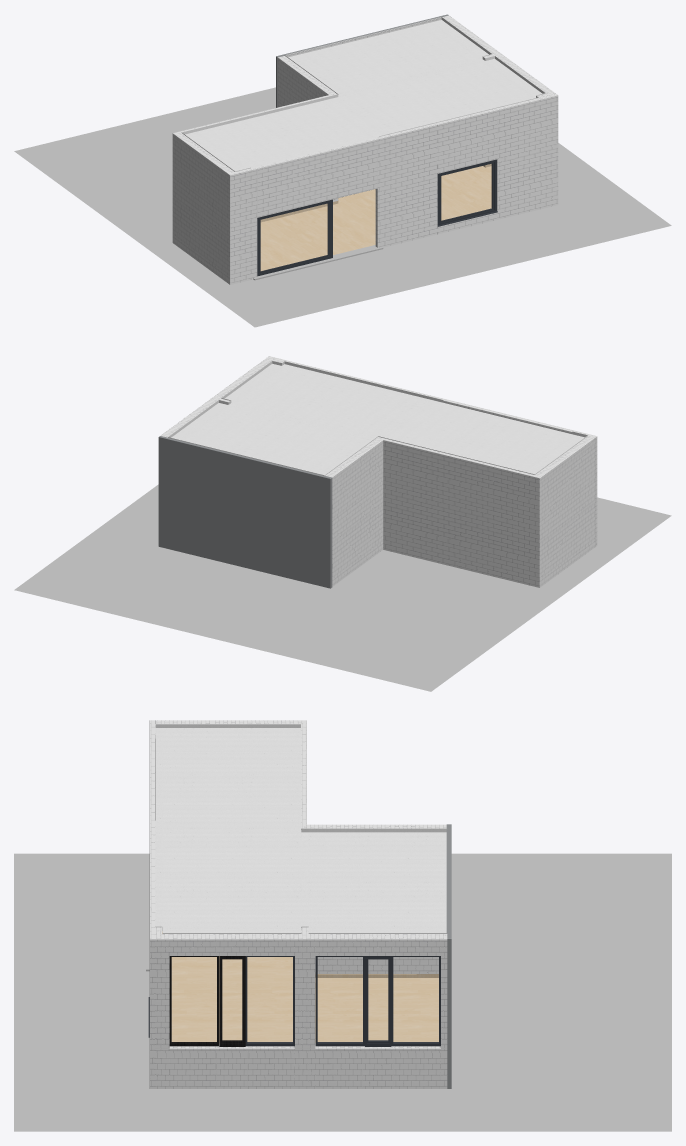
The model's file is room.obj.
The picture shows the model from 3 angles, top to bottom: view 1: azimuth 30°, elevation 25°; view 2: azimuth 150°, elevation 25°; view 3: azimuth 270°, elevation 25°; orthographic projection. The views are drawn at different scales.
Parts seen in each view (by area): view 1: Plane.014_Plane.015, Plane.003_Plane.001, Plane.001_Plane.022, Plane, Plane.007_Plane.005, Plane.006_Plane.004, Plane.005_Plane.003, Plane.002_Plane.024, Plane.004_Plane.002, Cube; view 2: Plane.014_Plane.015, Plane, Plane.001_Plane.022, Plane.004_Plane.002, Plane.003_Plane.001, Plane.002_Plane.024; view 3: Plane.014_Plane.015, Plane.001_Plane.022, Plane.002_Plane.024, Plane.007_Plane.005, Plane, Plane.003_Plane.001, Plane.004_Plane.002, Plane.013_Plane.014, Plane.008_Plane.009, Plane.011_Plane.012, Plane.012_Plane.013, Plane.010_Plane.011 (+1 smaller).
Boxes of the visible parts, left/top/right/bottom form: Plane.014_Plane.015: left=14, top=87, right=671, bottom=327; Plane.003_Plane.001: left=228, top=94, right=558, bottom=284; Plane.001_Plane.022: left=181, top=17, right=545, bottom=171; Plane: left=172, top=56, right=338, bottom=282; Plane.007_Plane.005: left=260, top=164, right=491, bottom=270; Plane.006_Plane.004: left=257, top=199, right=332, bottom=276; Plane.005_Plane.003: left=437, top=159, right=497, bottom=226; Plane.002_Plane.024: left=442, top=15, right=555, bottom=97; Plane.004_Plane.002: left=276, top=14, right=448, bottom=107; Cube: left=253, top=245, right=383, bottom=280; Plane.014_Plane.015: left=14, top=484, right=671, bottom=691; Plane: left=325, top=436, right=594, bottom=587; Plane.001_Plane.022: left=168, top=361, right=587, bottom=475; Plane.004_Plane.002: left=158, top=436, right=332, bottom=588; Plane.003_Plane.001: left=267, top=356, right=597, bottom=547; Plane.002_Plane.024: left=160, top=357, right=283, bottom=437; Plane.014_Plane.015: left=14, top=853, right=671, bottom=1131; Plane.001_Plane.022: left=155, top=724, right=447, bottom=933; Plane.002_Plane.024: left=155, top=927, right=447, bottom=1088; Plane.007_Plane.005: left=162, top=931, right=438, bottom=1042; Plane: left=155, top=720, right=446, bottom=973; Plane.003_Plane.001: left=149, top=720, right=155, bottom=1088; Plane.004_Plane.002: left=446, top=824, right=451, bottom=1088; Plane.013_Plane.014: left=365, top=956, right=391, bottom=1046; Plane.008_Plane.009: left=219, top=956, right=245, bottom=1046; Plane.011_Plane.012: left=391, top=956, right=440, bottom=1046; Plane.012_Plane.013: left=315, top=956, right=364, bottom=1046; Plane.010_Plane.011: left=245, top=956, right=294, bottom=1046.
Size of the model in its own units: 41.94 by 10.88 by 41.94.
